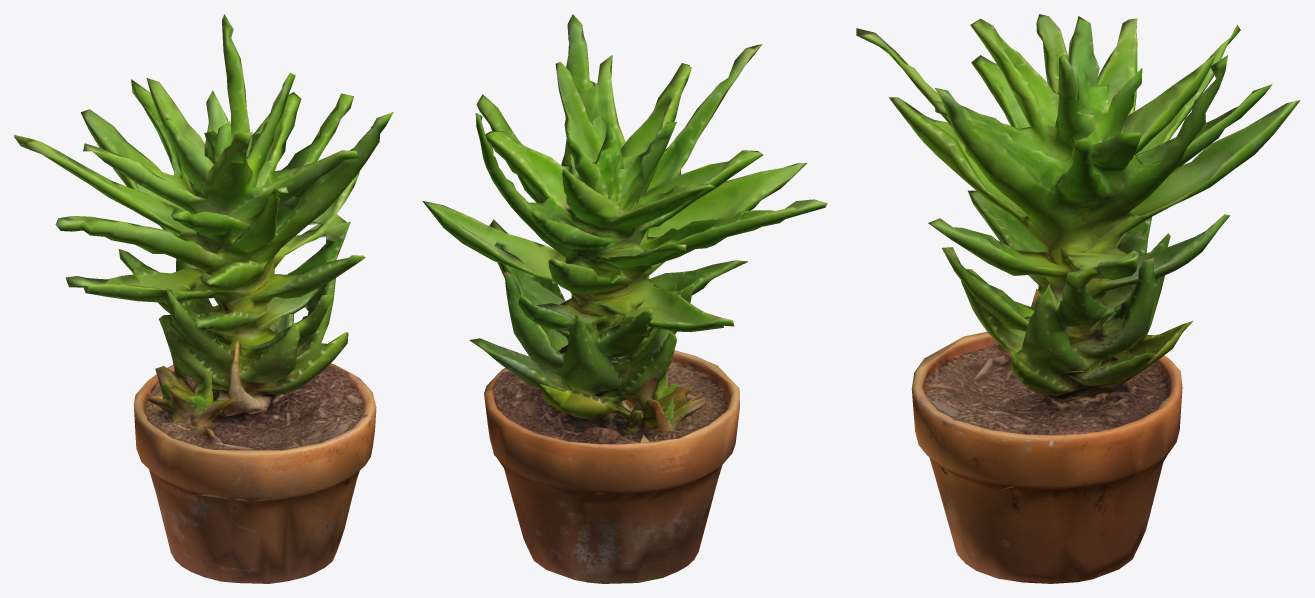
File: tree1.glb
3 renders of one model, left to right at view 1: azimuth 30°, elevation 25°; view 2: azimuth 150°, elevation 25°; view 3: azimuth 270°, elevation 25°, orthographic. The views are drawn at different scales.
Visible parts, largest first — view 1: SPIKEY_SUCCULENT_5K_0; view 2: SPIKEY_SUCCULENT_5K_0; view 3: SPIKEY_SUCCULENT_5K_0.
Boxes of the visible parts, left/top/right/bottom form: SPIKEY_SUCCULENT_5K_0: left=14, top=14, right=393, bottom=583; SPIKEY_SUCCULENT_5K_0: left=422, top=14, right=827, bottom=583; SPIKEY_SUCCULENT_5K_0: left=856, top=14, right=1300, bottom=583.
Size of the model in its own units: 0.3595 by 0.4595 by 0.3568.
1 material, 1 textured.
